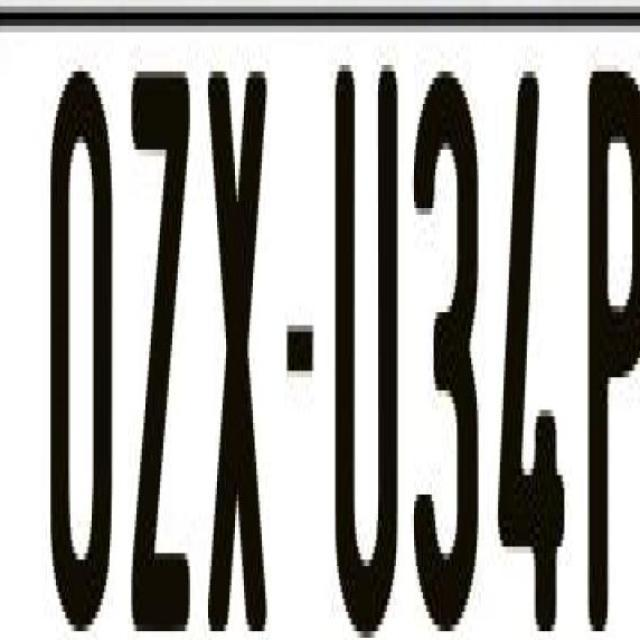license-plate: (14, 8, 640, 640)
